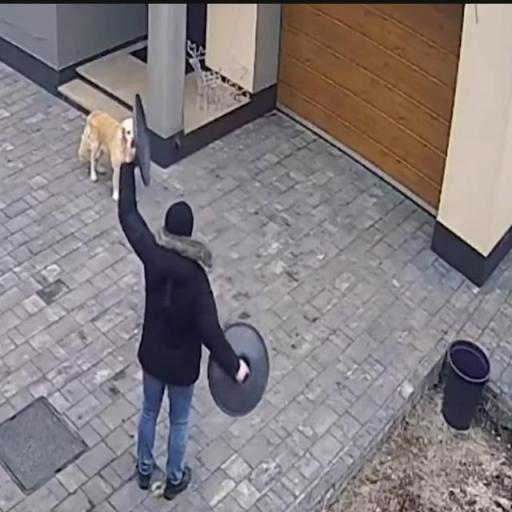person: (115, 87, 270, 510)
